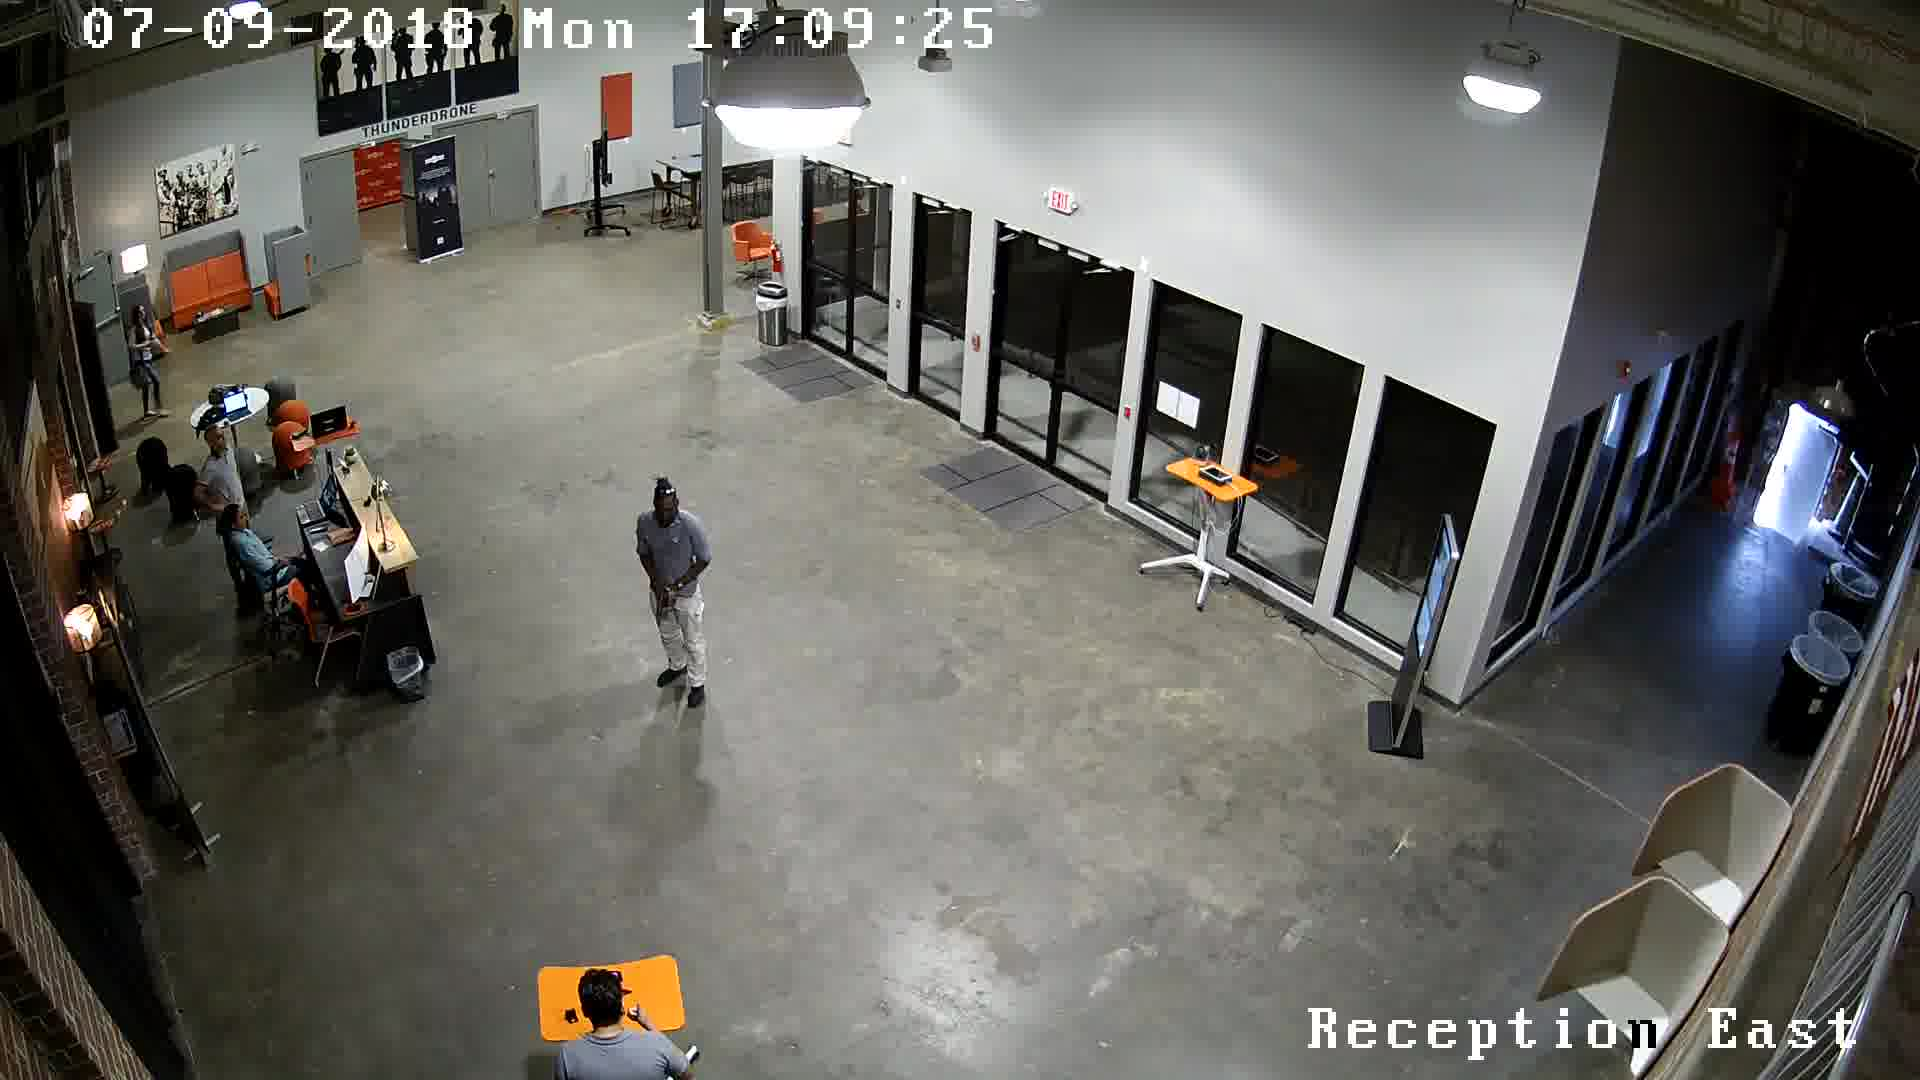pistol: (647, 579, 684, 638)
